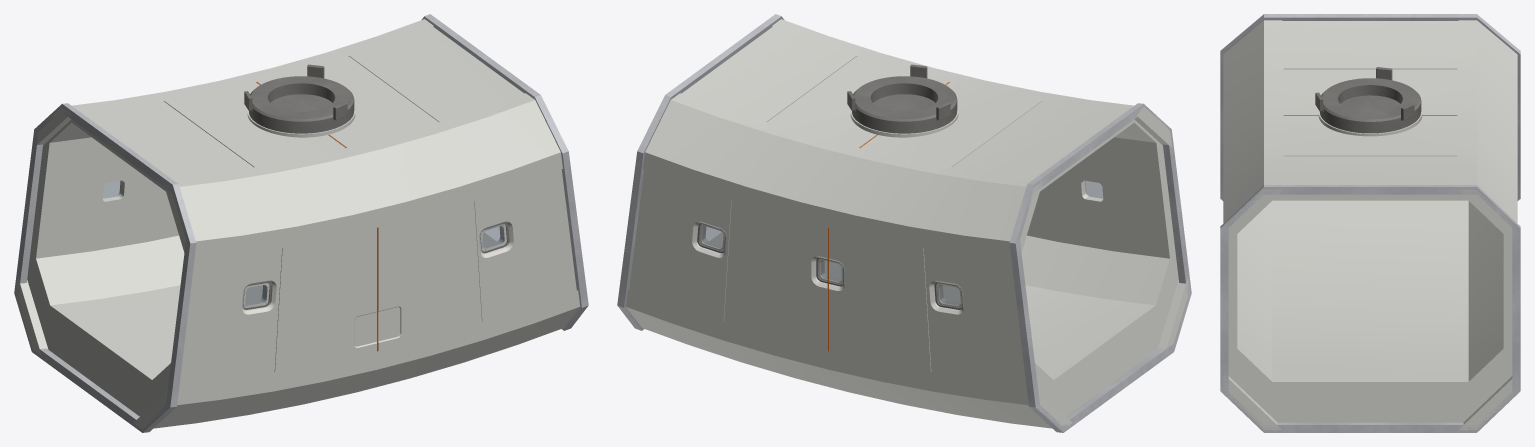
The model's file is ax_grav_05_ring_hab.glb.
3 views of the same model, side by side, from view 1: azimuth 30°, elevation 25°; view 2: azimuth 150°, elevation 25°; view 3: azimuth 270°, elevation 25° (orthographic). The views are drawn at different scales.
Visible parts, largest first — view 1: hull, end_flanges, spoke_port, window_glass, hatch_door_1, spoke_port_petals; view 2: hull, end_flanges, spoke_port, window_glass, hatch_door_1, spoke_port_petals; view 3: hull, end_flanges, spoke_port, hatch_door_1, spoke_port_petals, spoke_port_pedestal.
Boxes of the visible parts, <box> form: hull: <box>16,19,580,429</box>; end_flanges: <box>14,14,588,432</box>; spoke_port: <box>249,76,354,133</box>; window_glass: <box>102,181,504,306</box>; hatch_door_1: <box>270,94,332,111</box>; spoke_port_petals: <box>244,64,347,120</box>; hull: <box>625,19,1189,428</box>; end_flanges: <box>617,14,1191,432</box>; spoke_port: <box>852,76,957,133</box>; window_glass: <box>699,181,1103,307</box>; hatch_door_1: <box>873,94,935,111</box>; spoke_port_petals: <box>847,64,950,120</box>; hull: <box>1223,20,1517,429</box>; end_flanges: <box>1220,14,1520,432</box>; spoke_port: <box>1319,78,1421,133</box>; hatch_door_1: <box>1341,95,1399,112</box>; spoke_port_petals: <box>1315,67,1414,120</box>; spoke_port_pedestal: <box>1318,108,1422,136</box>.
Bounding box in the file's own units: 7.52 × 4.41 × 4.74.
Materials: 5 (2 with a texture image).
